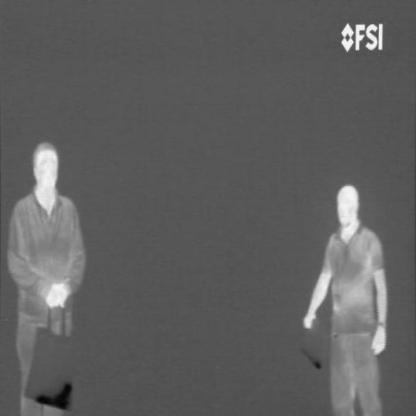weapon: (34, 377, 74, 414)
